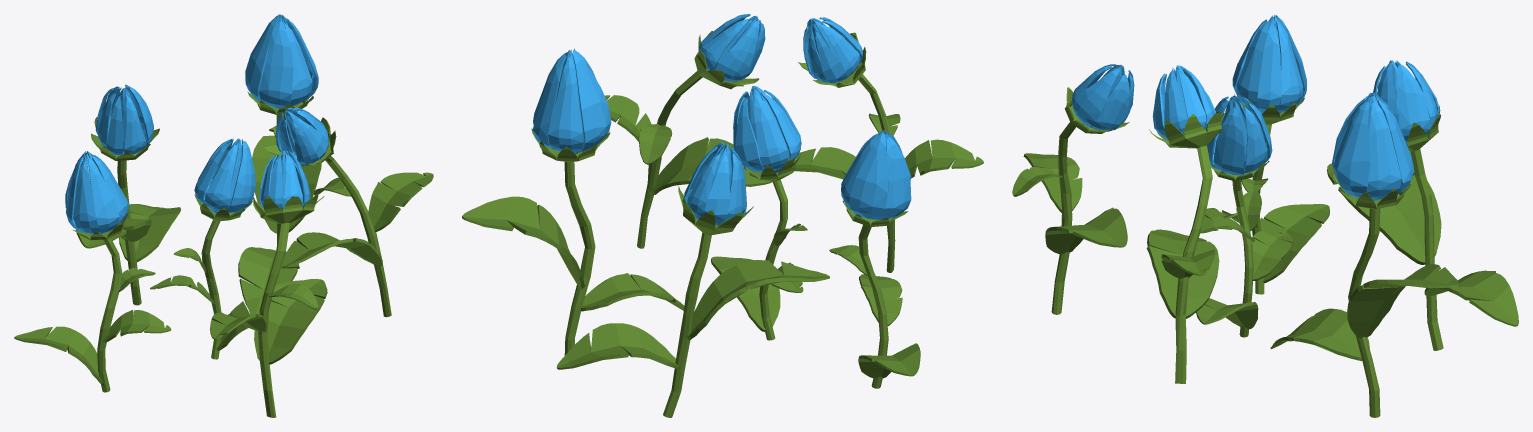
File: tulip.glb
The picture shows the model from 3 angles, left to right: view 1: azimuth 30°, elevation 25°; view 2: azimuth 150°, elevation 25°; view 3: azimuth 270°, elevation 25°; orthographic projection. The views are drawn at different scales.
Visible parts, largest first — view 1: Tulip_blue_05, Tulip_blue_01, Tulip_blue_04, Tulip_blue_06, Tulip_blue_02, Tulip_blue_03; view 2: Tulip_blue_04, Tulip_blue_02, Tulip_blue_01, Tulip_blue_06, Tulip_blue_03, Tulip_blue_05; view 3: Tulip_blue_04, Tulip_blue_06, Tulip_blue_02, Tulip_blue_05, Tulip_blue_01, Tulip_blue_03.
Boxes of the visible parts, x1,y1,x2,y2 form: Tulip_blue_05: (210, 150, 327, 417); Tulip_blue_01: (14, 151, 171, 392); Tulip_blue_04: (238, 14, 321, 307); Tulip_blue_06: (264, 107, 433, 317); Tulip_blue_02: (76, 84, 180, 305); Tulip_blue_03: (150, 138, 259, 359); Tulip_blue_04: (462, 48, 684, 355); Tulip_blue_02: (556, 142, 829, 417); Tulip_blue_01: (829, 130, 920, 388); Tulip_blue_06: (605, 14, 772, 248); Tulip_blue_03: (711, 86, 807, 340); Tulip_blue_05: (794, 17, 983, 272); Tulip_blue_04: (1270, 92, 1459, 417); Tulip_blue_06: (1146, 65, 1254, 383); Tulip_blue_02: (1327, 60, 1518, 350); Tulip_blue_05: (1012, 64, 1134, 314); Tulip_blue_01: (1202, 14, 1329, 294); Tulip_blue_03: (1196, 95, 1293, 337).
Bounding box in the file's own units: 1.08 × 0.8103 × 1.14.
Materials: 1 (1 with a texture image).
